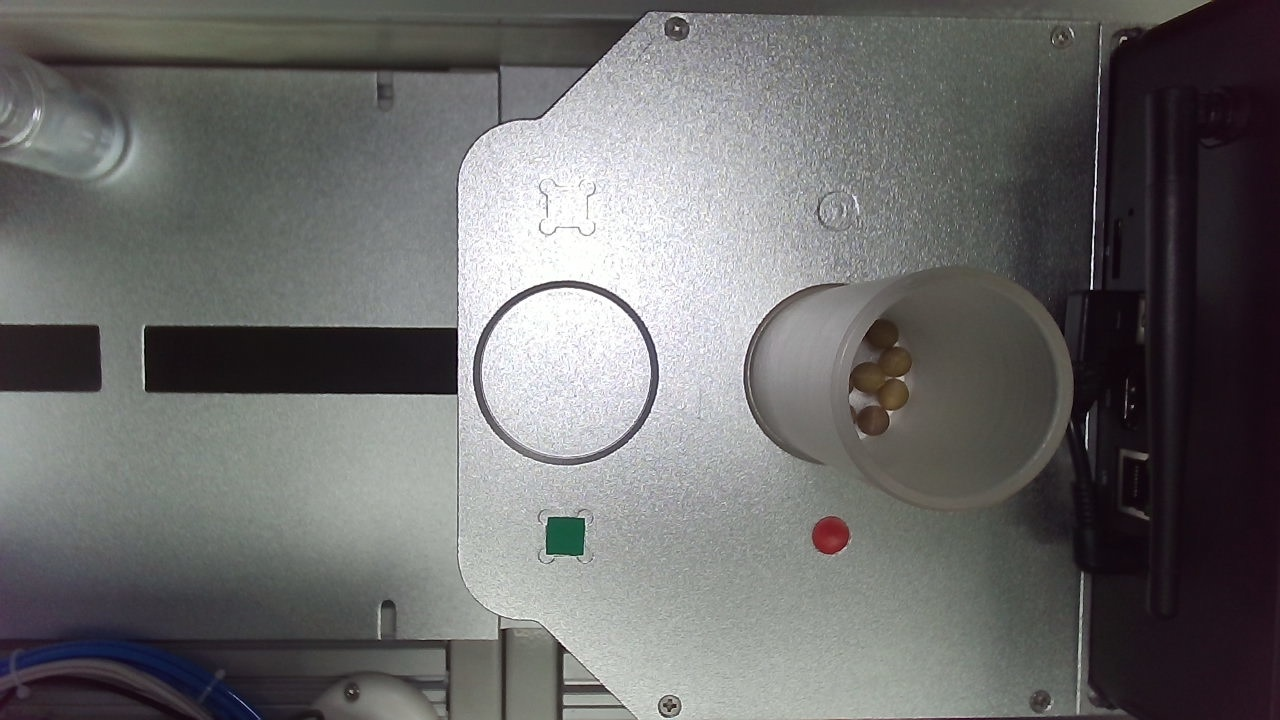XLabel: (783, 361, 817, 394)
YLabel: (565, 363, 600, 398)
none: (501, 434, 664, 597)
transparenexcept: (726, 432, 1008, 672)
